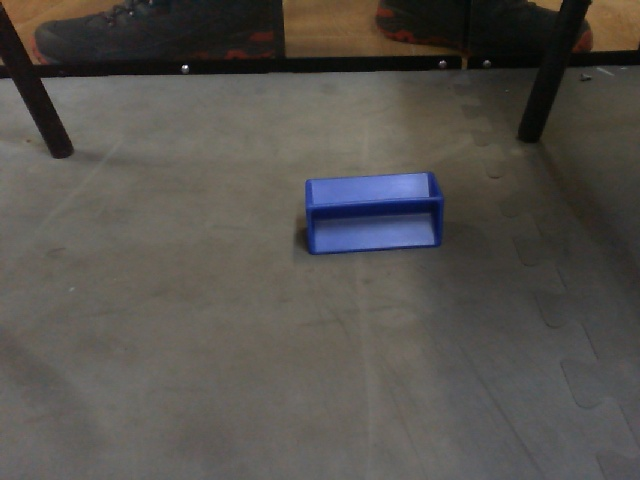BlueSample: (292, 164, 449, 257)
